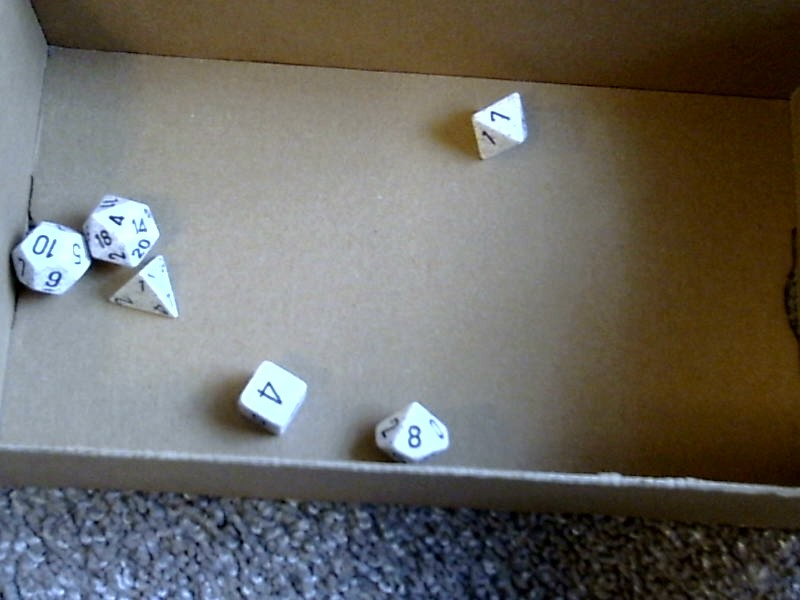d10 8: (371, 396, 454, 467)
d12 10: (6, 215, 91, 301)
d20 4: (77, 177, 162, 264)
d4 1: (105, 255, 189, 324)
d6 4: (230, 355, 309, 441)
d8 7: (460, 85, 536, 168)
